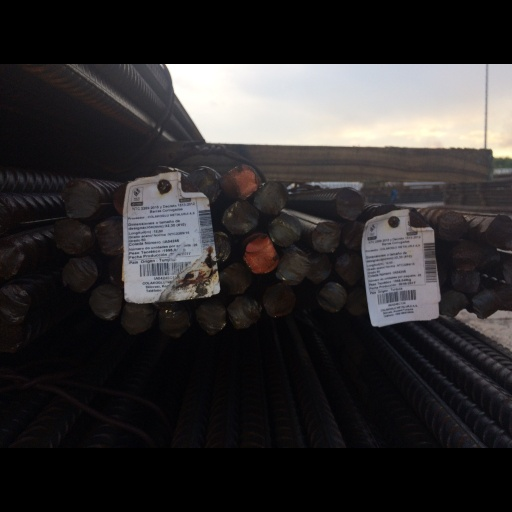dipstick: (219, 165, 256, 199), (54, 219, 92, 252), (63, 182, 98, 216), (222, 200, 257, 234), (0, 284, 30, 323), (62, 257, 96, 290), (89, 285, 121, 319), (246, 238, 277, 273), (159, 302, 189, 338), (227, 298, 260, 330), (277, 253, 308, 286), (255, 183, 287, 214), (188, 169, 218, 202), (268, 216, 300, 246), (197, 300, 226, 333), (122, 305, 152, 336), (311, 221, 340, 253), (96, 219, 123, 253), (221, 264, 250, 295), (264, 287, 295, 316), (0, 241, 23, 279), (472, 291, 502, 318), (336, 188, 361, 220), (334, 254, 362, 282), (317, 283, 345, 311), (437, 212, 467, 238), (484, 217, 511, 245), (450, 268, 479, 292), (0, 327, 26, 353), (452, 242, 479, 267), (440, 292, 469, 315), (309, 255, 331, 284), (346, 287, 366, 315), (212, 231, 230, 262), (342, 221, 361, 250)
